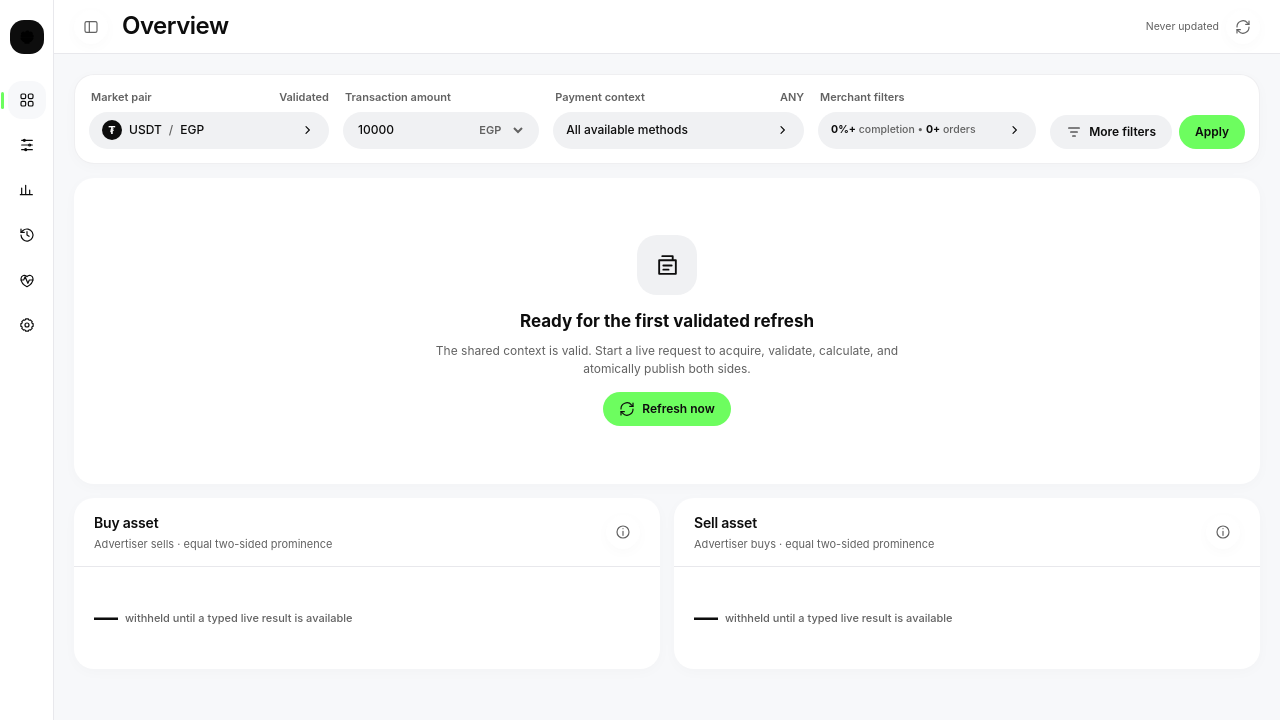
Test case: approved application shell › navigates all six pages and keeps current-page semantics
Expected: the heading "Ready for the first validated refresh" is shown, [520,311,814,331]
Click the button named "Data Health" at x=26, y=280, box [8,261,46,299]
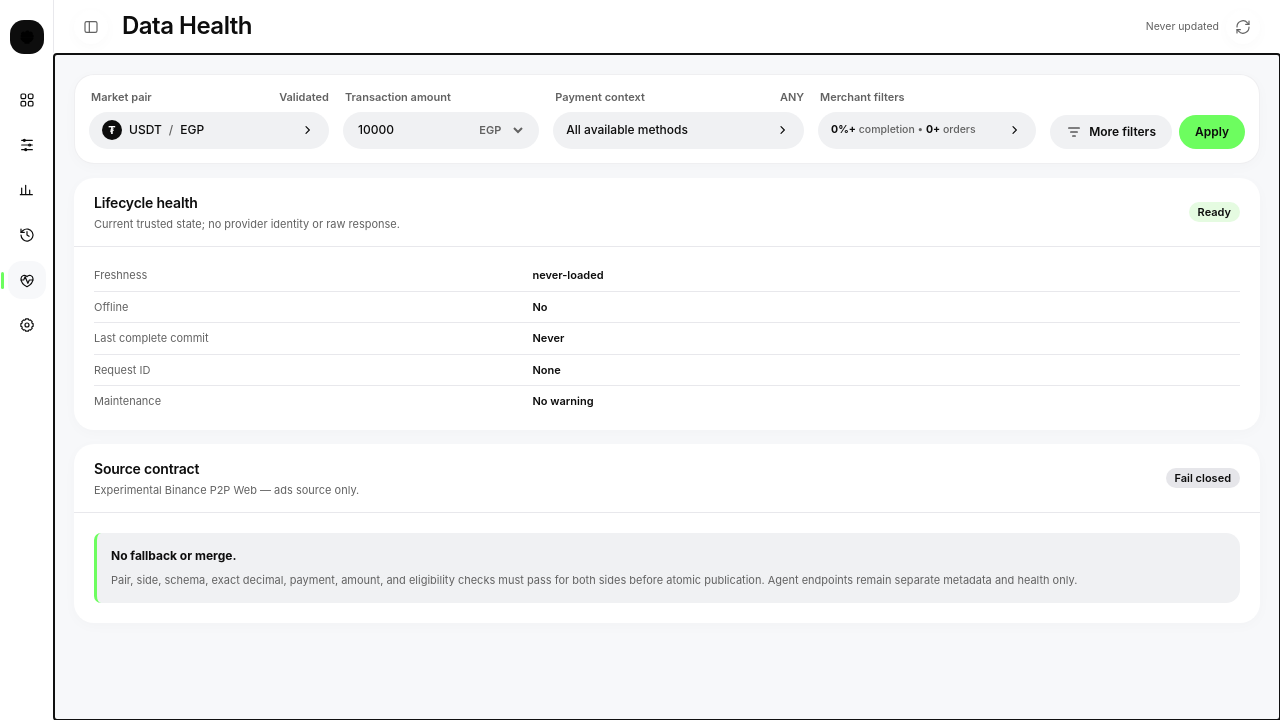
Now the heading "Data Health" is shown, box [122,12,252,41]
Now the text "No fallback or merge." is shown, box [111,548,236,563]
